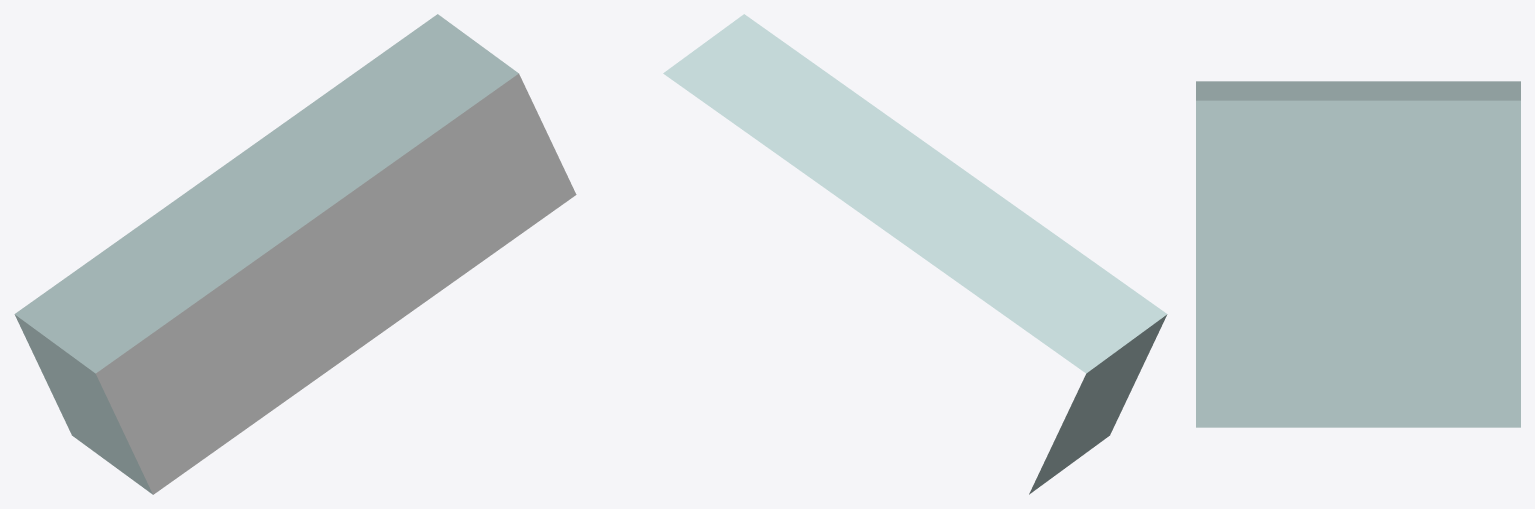
The picture shows the model from 3 angles, left to right: view 1: azimuth 30°, elevation 25°; view 2: azimuth 150°, elevation 25°; view 3: azimuth 270°, elevation 25°; orthographic projection. The views are drawn at different scales.
Visible parts, largest first — view 1: 0_1_1_3_2_1_2_0_0; view 2: 0_1_1_3_2_1_2_0_0; view 3: 0_1_1_3_2_1_2_0_0.
Boxes of the visible parts, x1,y1,x2,y2 form: 0_1_1_3_2_1_2_0_0: (14, 14, 576, 494); 0_1_1_3_2_1_2_0_0: (663, 14, 1167, 494); 0_1_1_3_2_1_2_0_0: (1196, 81, 1520, 427).
Size of the model in its own units: 10.25 by 6.77 by 3.
